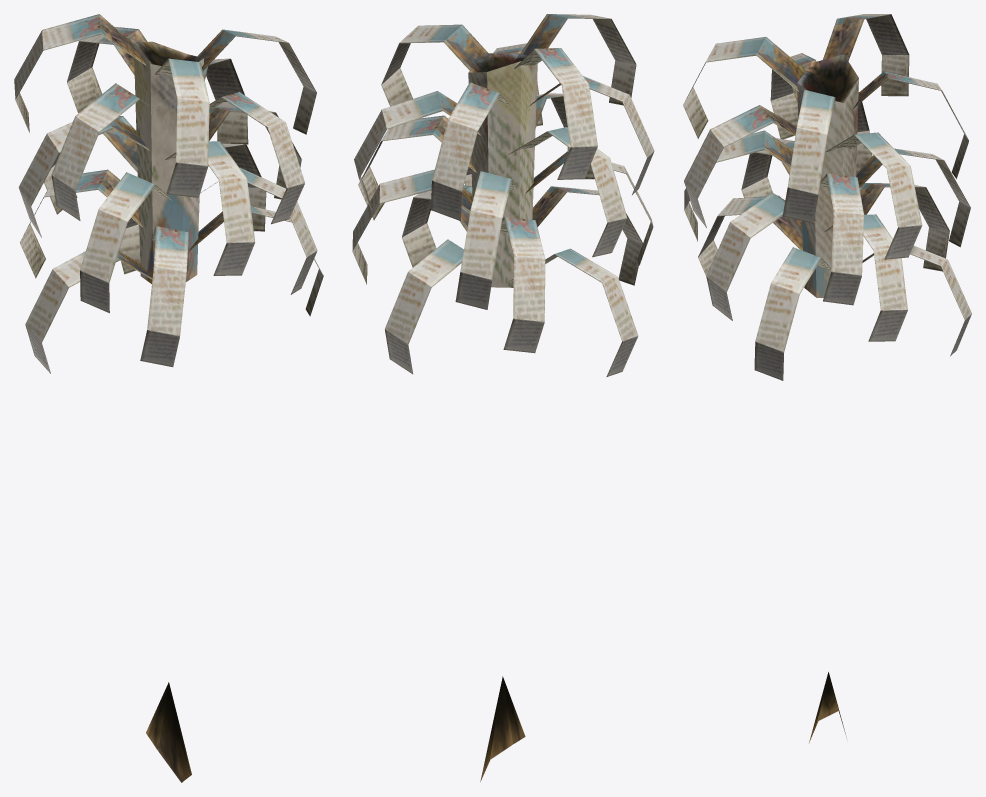
Rendered from Bat_paperWand.obj.
3 renders of one model, left to right at view 1: azimuth 30°, elevation 25°; view 2: azimuth 150°, elevation 25°; view 3: azimuth 270°, elevation 25°, orthographic. The views are drawn at different scales.
Visible parts, largest first — view 1: Bat_paperWand_tri; view 2: Bat_paperWand_tri; view 3: Bat_paperWand_tri.
Part boxes in pixels (x1=…): Bat_paperWand_tri: x1=14, y1=14, x2=323, y2=782; Bat_paperWand_tri: x1=352, y1=14, x2=654, y2=781; Bat_paperWand_tri: x1=683, y1=14, x2=971, y2=742.
Bounding box in the file's own units: 0.2092 × 0.5807 × 0.2076.
Materials: 1 (1 with a texture image).
